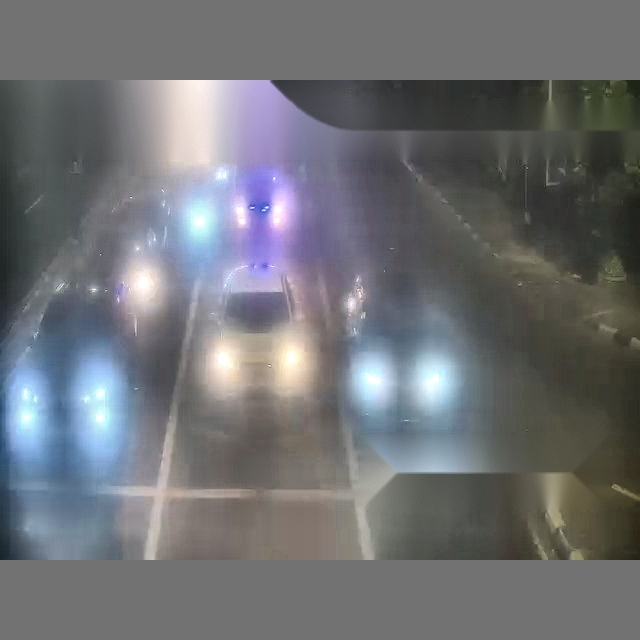Motor: (120, 232, 160, 336)
